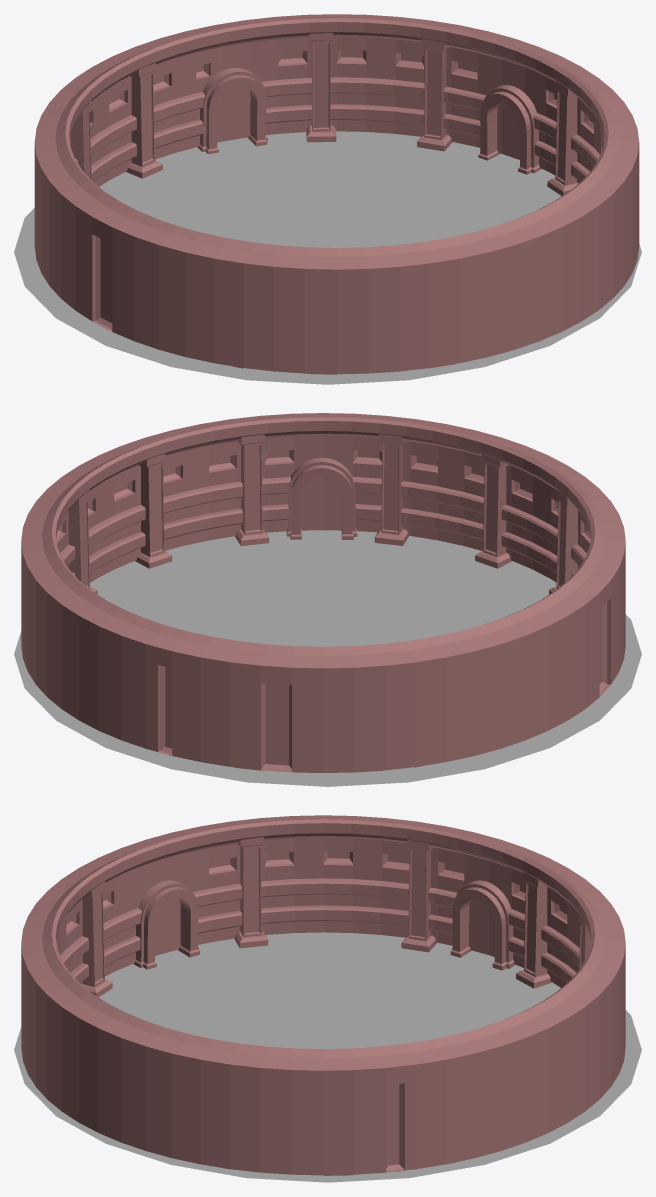
The model's file is Zone.fbx.
3 views of the same model, one above another, from view 1: azimuth 30°, elevation 25°; view 2: azimuth 150°, elevation 25°; view 3: azimuth 270°, elevation 25° (orthographic).
Visible parts, largest first — view 1: pTorus1, pDisc1, pCylinder10, pCylinder9, pCube14, pCube12, pCube13, pCube15, pCube11; view 2: pTorus1, pDisc1, pCylinder4, pCube16, pCube19, pCube18, pCube17, pCube20, pCube15; view 3: pTorus1, pDisc1, pCylinder7, pCylinder8, pCube10, pCube9, pCube11, pCube20.
Part boxes in pixels (box(x1,y1,x2,y2)): pTorus1: box(34, 14, 639, 374); pDisc1: box(14, 131, 641, 384); pCylinder10: box(478, 85, 541, 174); pCylinder9: box(197, 68, 267, 154); pCube14: box(417, 39, 452, 151); pCube12: box(126, 63, 162, 178); pCube13: box(306, 32, 336, 142); pCube15: box(547, 81, 578, 195); pCube11: box(71, 101, 91, 179); pTorus1: box(21, 413, 625, 772); pDisc1: box(14, 530, 641, 786); pCylinder4: box(286, 457, 357, 539); pCube16: box(135, 453, 172, 568); pCube19: box(475, 454, 512, 568); pCube18: box(374, 434, 408, 545); pCube17: box(235, 434, 269, 546); pCube20: box(549, 489, 577, 594); pCube15: box(68, 490, 97, 594); pTorus1: box(21, 815, 625, 1175); pDisc1: box(14, 932, 641, 1182); pCylinder7: box(133, 880, 199, 969); pCylinder8: box(450, 880, 515, 970); pCube10: box(401, 839, 436, 952); pCube9: box(234, 837, 268, 948); pCube11: box(516, 872, 552, 988); pCube20: box(82, 881, 112, 997).
Bounding box in the file's own units: 216 × 46.51 × 216.
